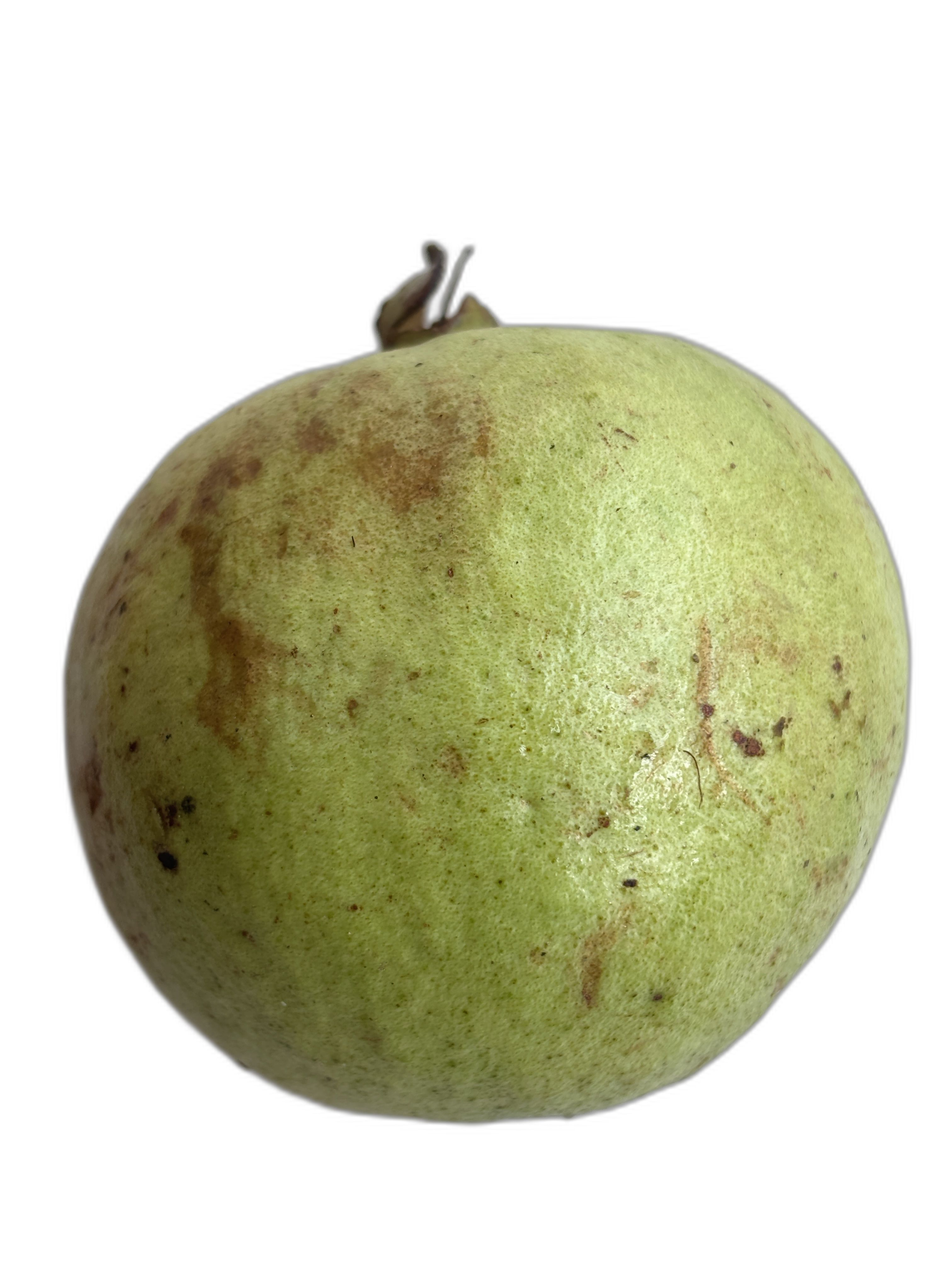guava: (206, 25, 800, 1012)
